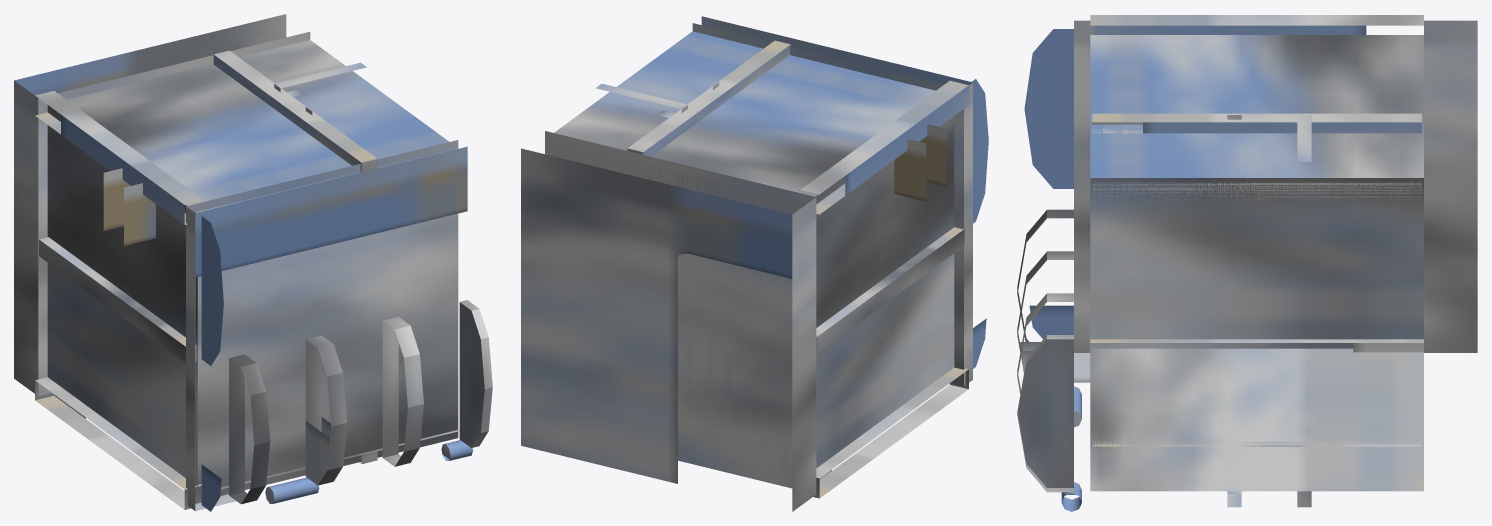
Rendered from section-2.obj.
3 renders of one model, left to right at view 1: azimuth 30°, elevation 25°; view 2: azimuth 150°, elevation 25°; view 3: azimuth 270°, elevation 25°, orthographic. The views are drawn at different scales.
Bounding box in the file's own units: 0.92 × 0.94 × 1.12.
